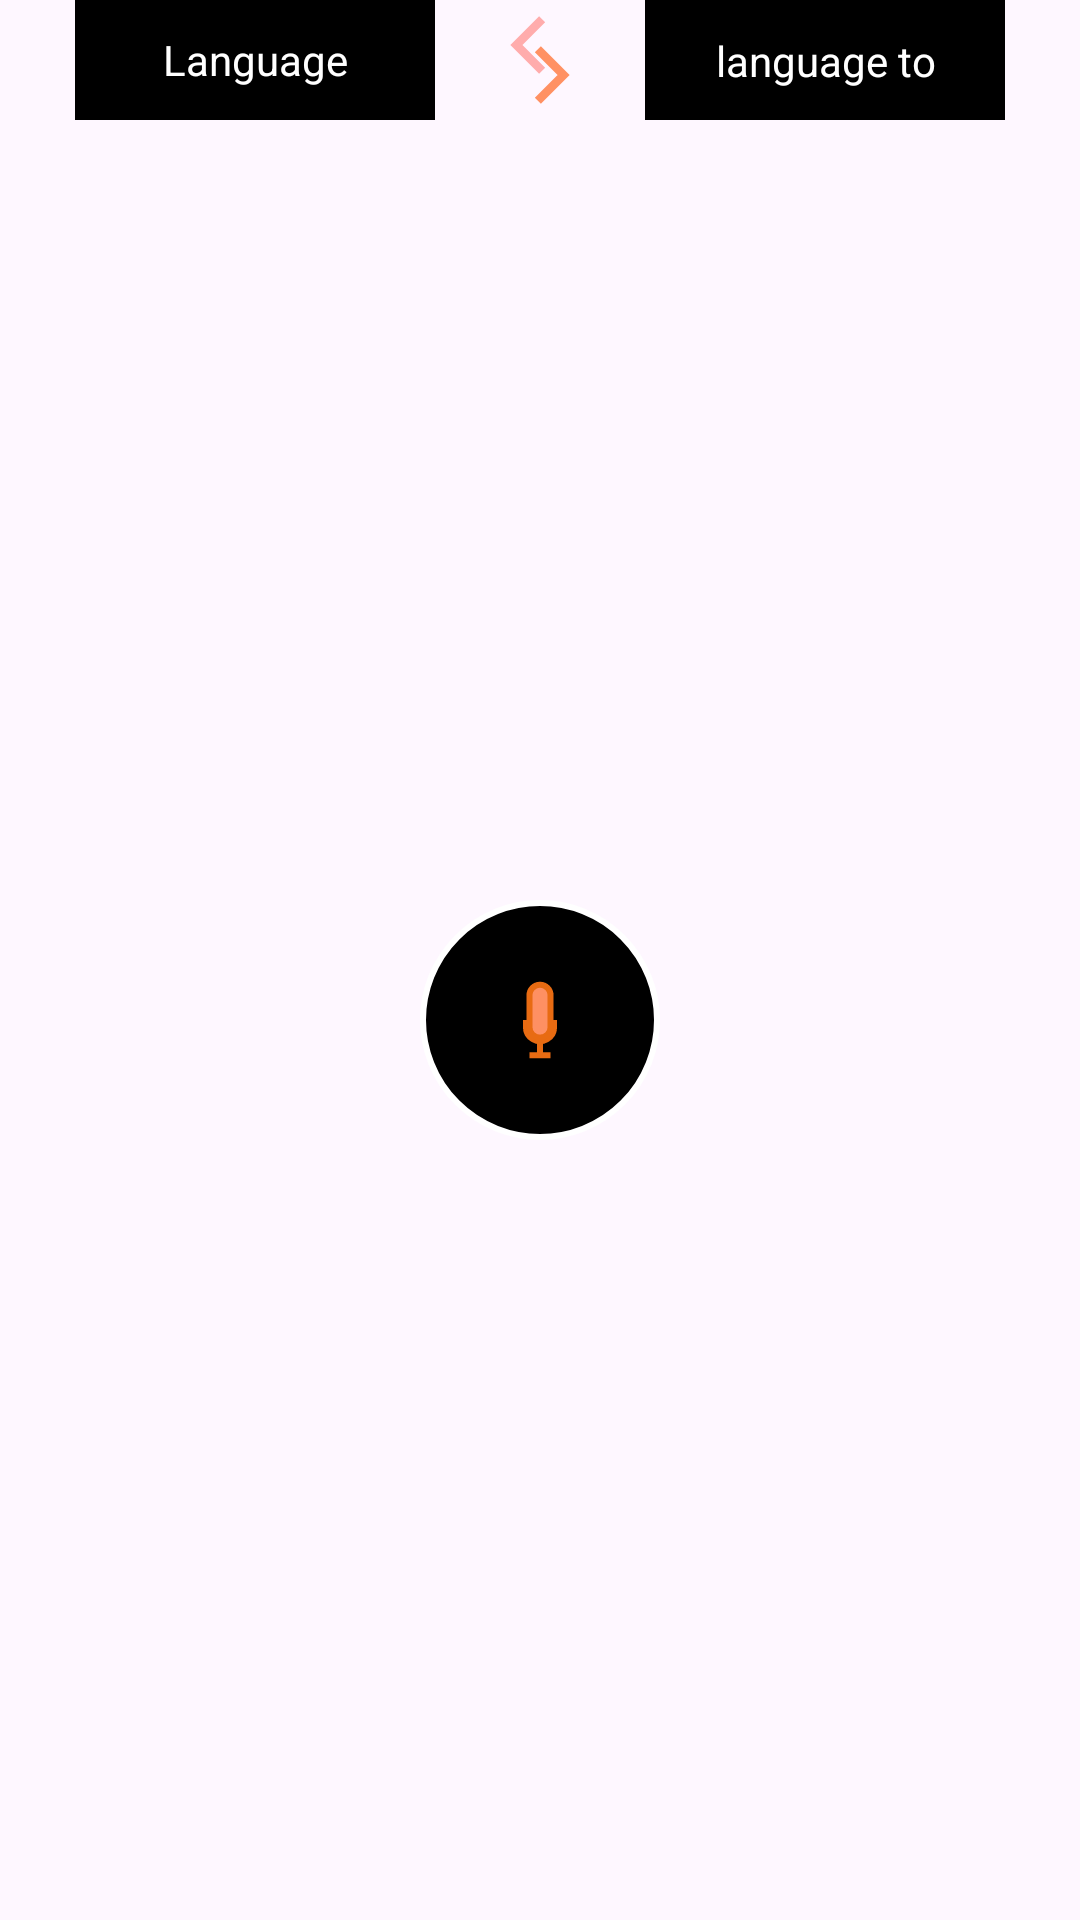

Screen size 1080×1920. Icon name, then its box in pixels as box=[x1, y1, x2, y2]:
Record Voice: box=[426, 906, 654, 1134]
